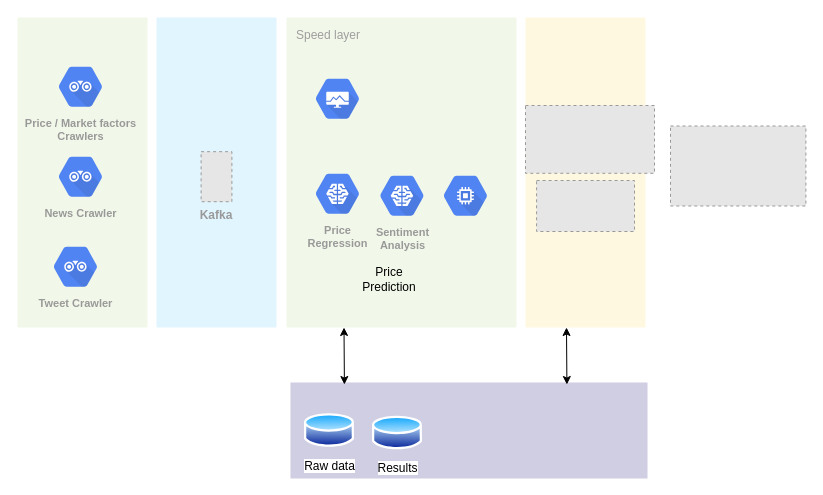
This 823x495 diagram has some shape labels left out. Grey dashed boxes stand in for pictures. The box of each missing label's shape, as (x1, y1, x2, y2) in pixels:
Data sources: (17, 17, 147, 327)
Messaging: (156, 17, 276, 327)
Realtime View: (304, 69, 370, 128)
Serving layer: (525, 17, 645, 327)
Technical Analysis: (432, 166, 498, 224)
